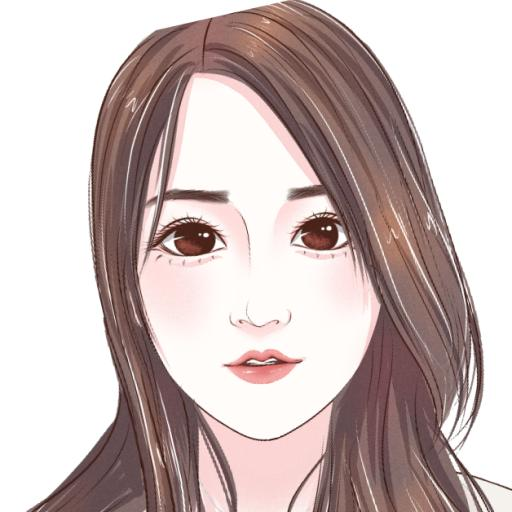NoHuman: (0, 0, 510, 512)
